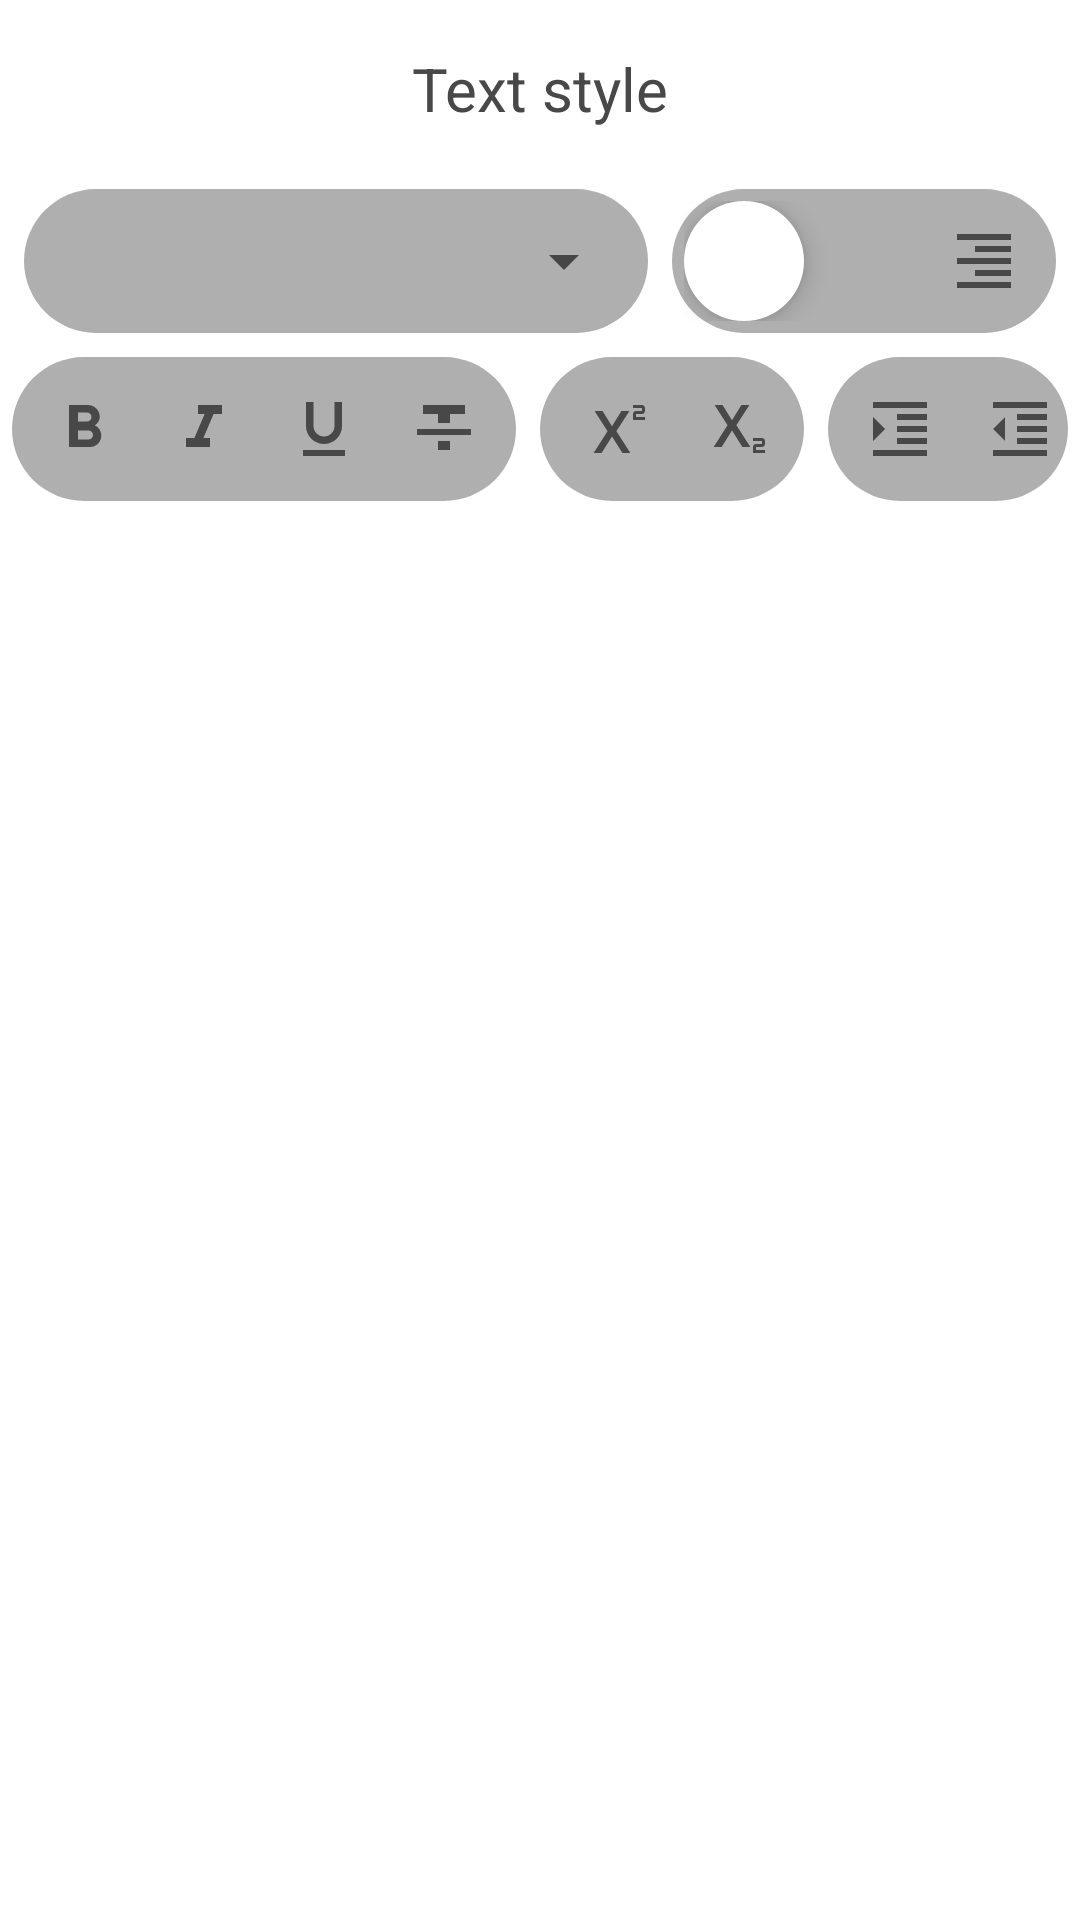

Where to tap for icons on this 1080×1920 app screen, as point (x, y):
Align right: point (984, 261)
Bold: point (85, 426)
Decrease indent: point (1014, 429)
Increase indent: point (900, 429)
Italic: point (204, 426)
Strikethrough: point (444, 427)
Subscript: point (739, 429)
Superscript: point (619, 429)
Underline: point (324, 429)
